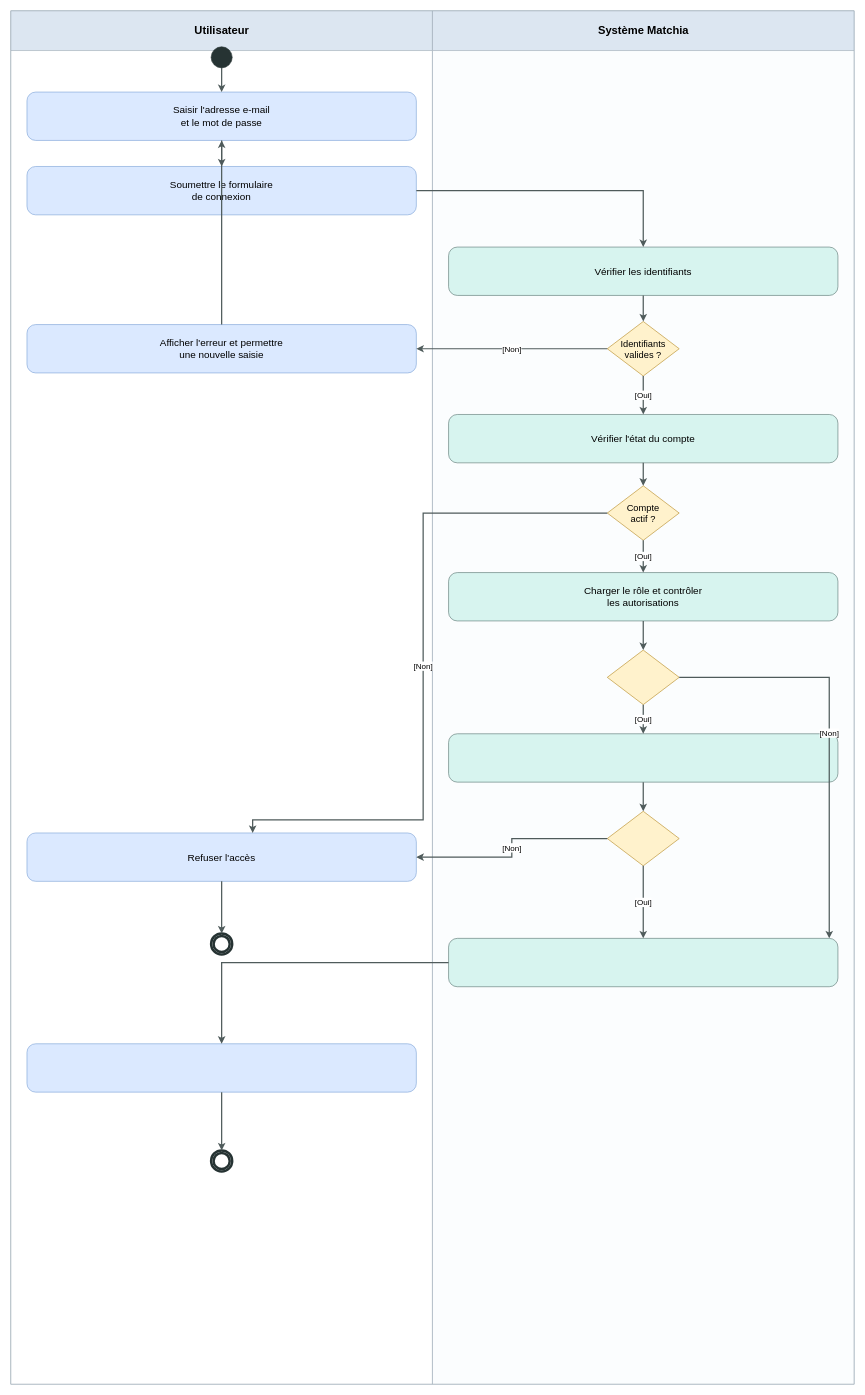
Some shapes in this 865 by 1395 pixel diagram are drawn without their labels. The shapes that lost their labels are listed below. From the top down, each one's centre as x and y in pixels, then its label:
At (x=643, y=677): "Contexte de tenant requis ?".
At (x=643, y=757): "Déterminer la banque ou la marketplace de rattachement".
At (x=643, y=838): "Tenant autorisé ?".
At (x=643, y=962): "Créer la session authentifiée avec le contexte d'accès".
At (x=221, y=1067): "Rediriger vers l'espace correspondant au rôle".
